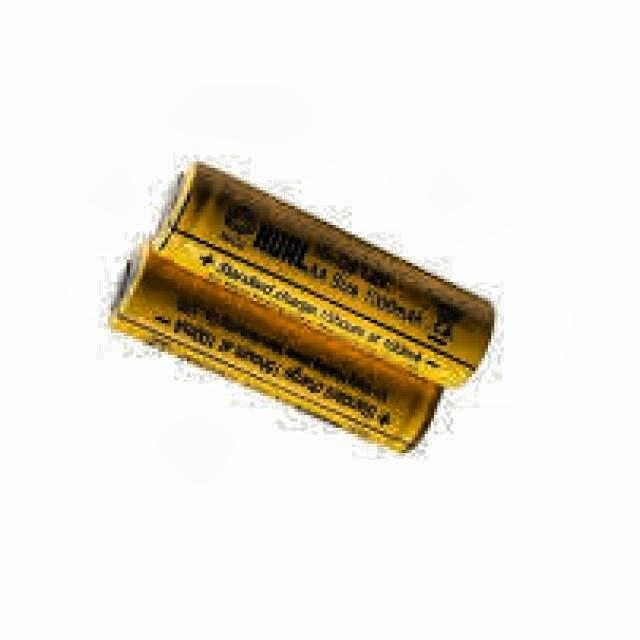battery: (114, 168, 494, 453)
